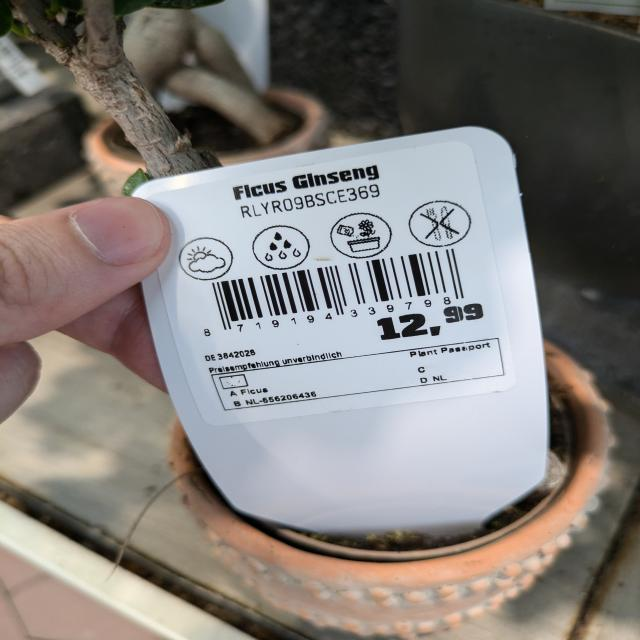dungen: (326, 212, 398, 262)
halb sonnig schattig: (180, 234, 237, 284)
mittel giesen: (244, 223, 314, 272)
